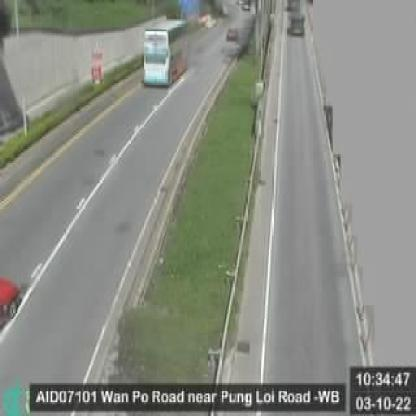Bus: (143, 17, 189, 87)
